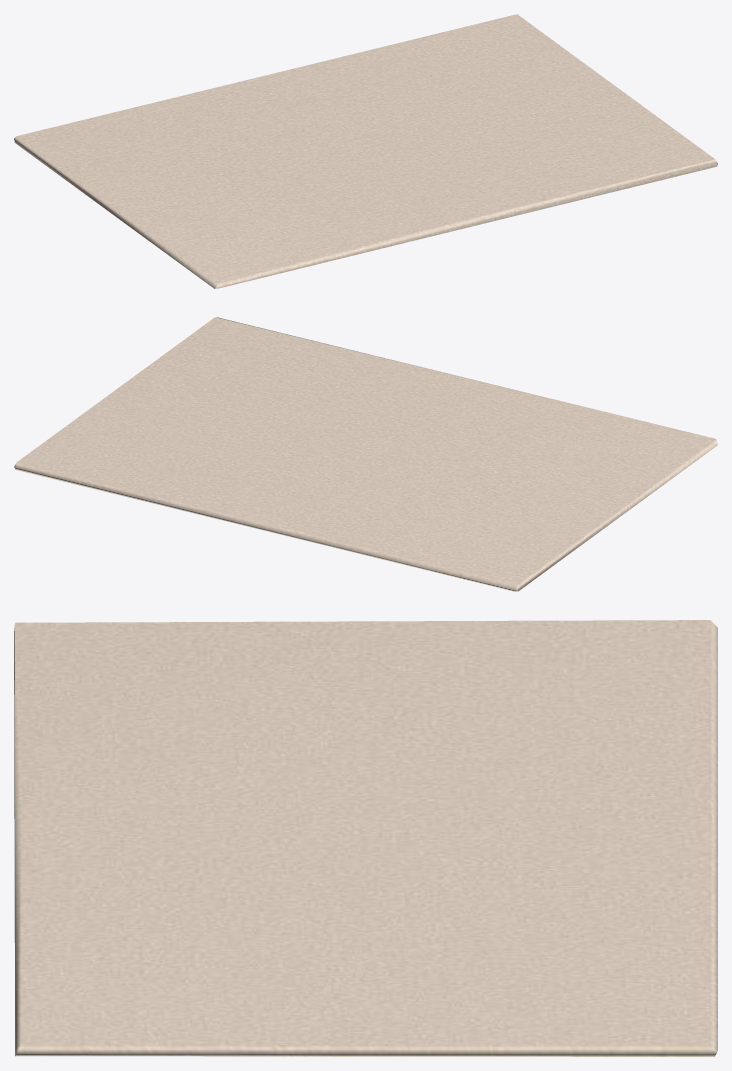
File: 32 - VOLLERSLEV Rug, high pile - white 160x230 cm.glb
The picture shows the model from 3 angles, top to bottom: view 1: azimuth 30°, elevation 25°; view 2: azimuth 150°, elevation 25°; view 3: azimuth 270°, elevation 25°; orthographic projection. The views are drawn at different scales.
Visible parts, largest first — view 1: ASY_ART_30492572_S01_NV01; view 2: ASY_ART_30492572_S01_NV01; view 3: ASY_ART_30492572_S01_NV01.
Boxes of the visible parts, bbox=[...] form: ASY_ART_30492572_S01_NV01: bbox=[14, 14, 717, 288]; ASY_ART_30492572_S01_NV01: bbox=[14, 317, 717, 591]; ASY_ART_30492572_S01_NV01: bbox=[14, 620, 717, 1056].
Size of the model in its own units: 2.3 by 0.0307 by 1.6.
Materials: 1 (1 with a texture image).
